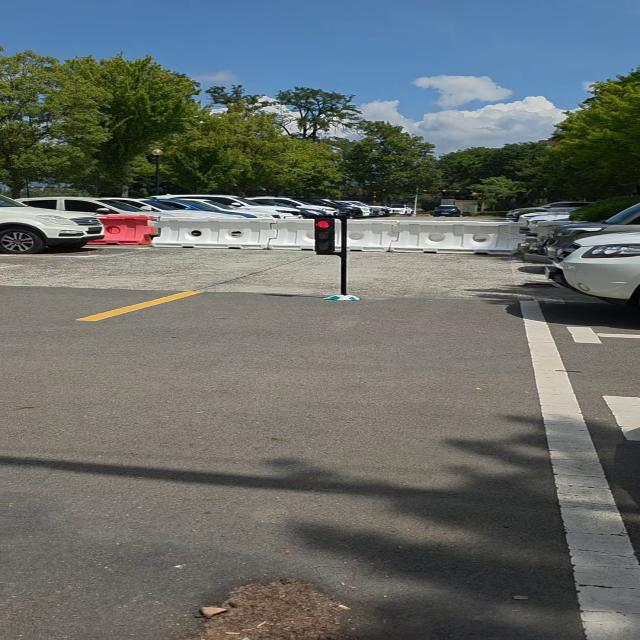red: (312, 215, 339, 257)
